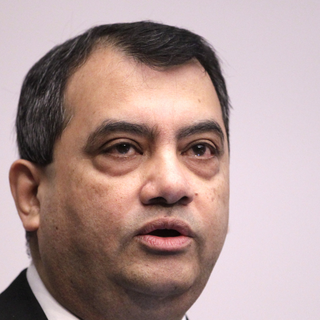eye: (92, 135, 146, 161), (179, 138, 222, 162)
